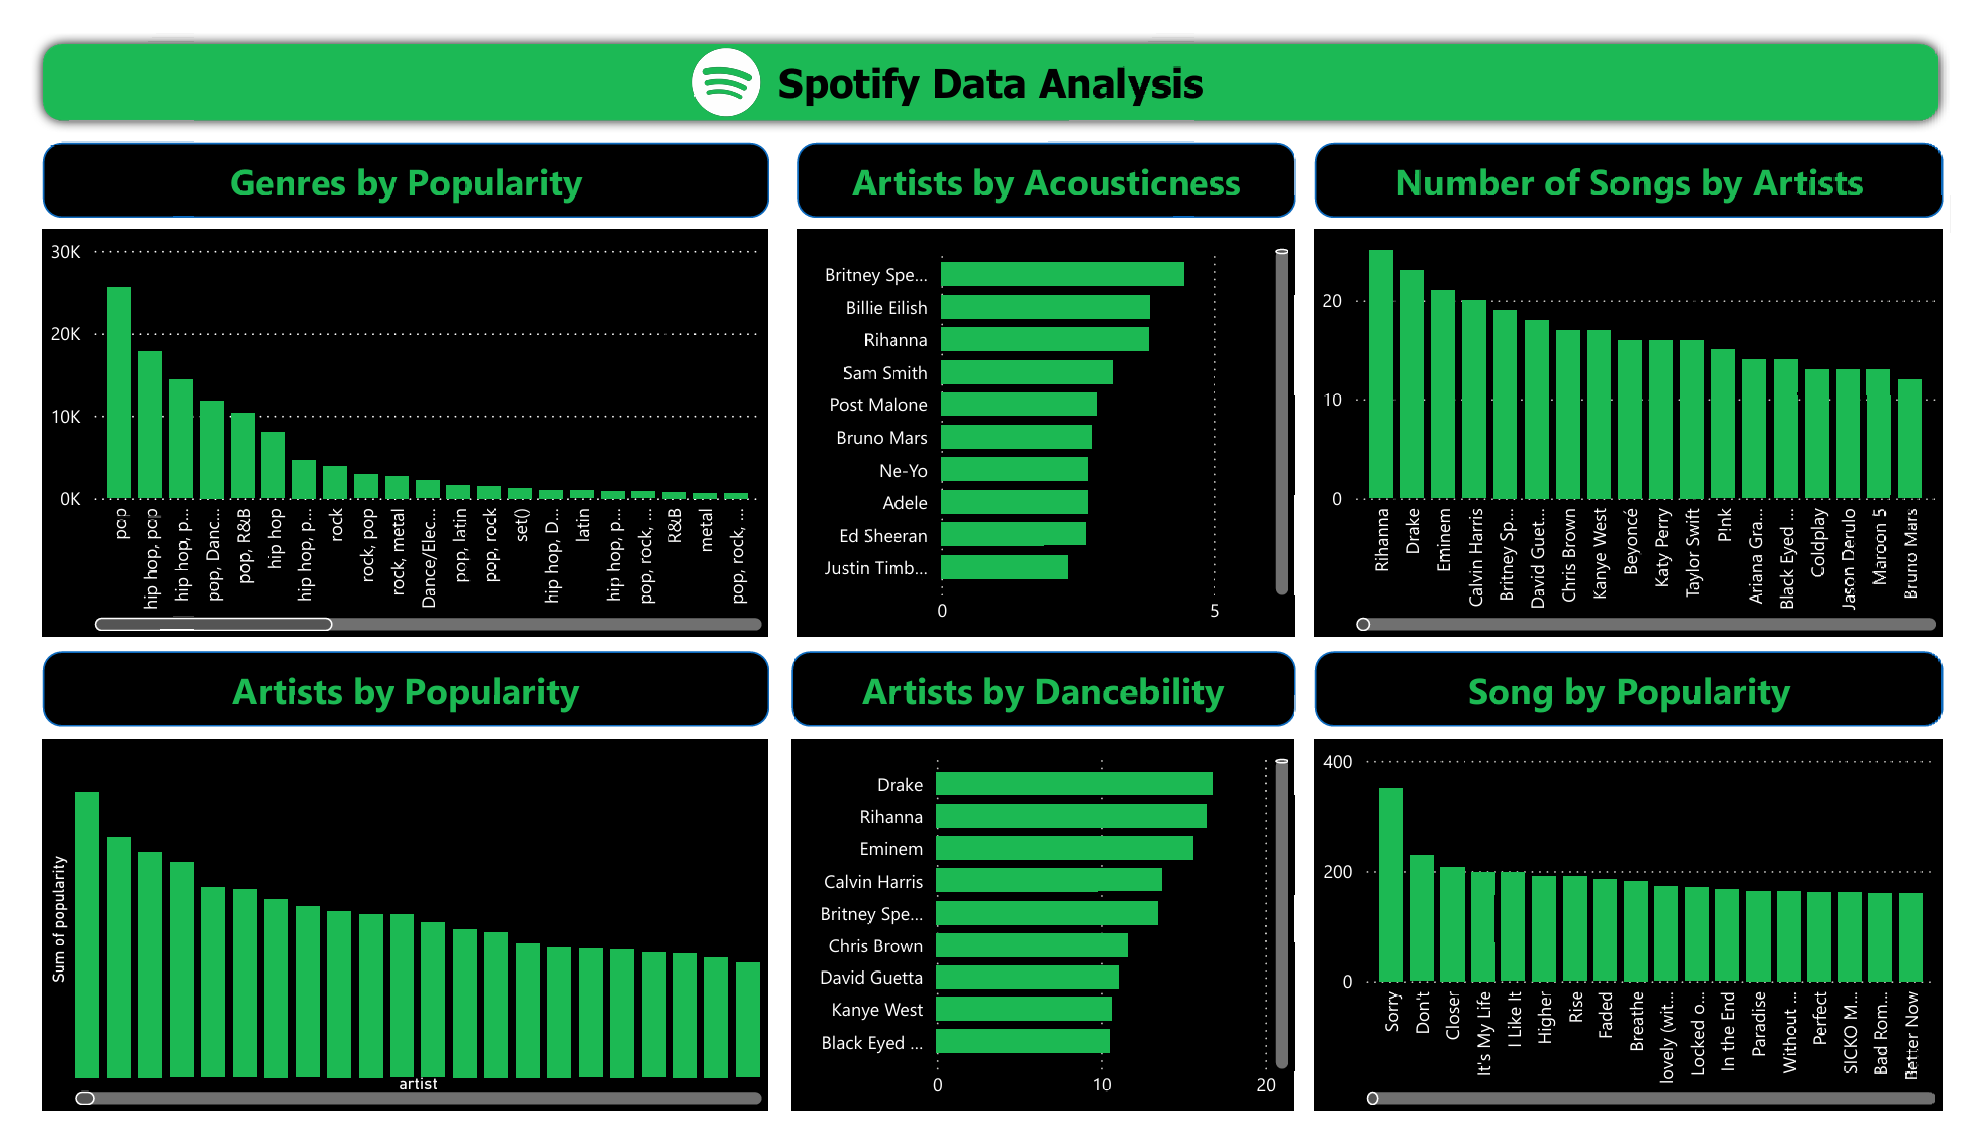

This screenshot's page, from the dashboard's own definition file:
{"tool":"powerbi","page":{"name":"Spotify Data Analysis","canvas":[1280,720],"ordinal":0},"visuals":[{"type":"columnChart","fields":{"Y":["songs_normalize.popularity"],"Category":["songs_normalize.artist"]},"box":[7.9,471.8,484.3,248],"z":0},{"type":"barChart","fields":{"Y":["songs_normalize.danceability"],"Category":["songs_normalize.artist"]},"box":[506.5,471.8,336.4,248],"z":1000},{"type":"columnChart","fields":{"Y":["songs_normalize.popularity"],"Category":["songs_normalize.song"]},"box":[856,471.8,418.8,248],"z":2000},{"type":"columnChart","fields":{"Y":["songs_normalize.popularity"],"Category":["songs_normalize.genre"]},"box":[7.9,131.5,484.3,272.2],"z":3000},{"type":"clusteredBarChart","fields":{"Y":["songs_normalize.acousticness"],"Category":["songs_normalize.artist"]},"box":[511.1,131.5,331.8,272.2],"z":4000},{"type":"columnChart","fields":{"Category":["songs_normalize.artist"],"Y":["songs_normalize.song"]},"box":[856,131.5,418.8,272.2],"z":5000},{"type":"shape","box":[0,0,1280,67.4],"z":6000},{"type":"shape","box":[7.9,73.9,484.3,49.7],"z":7000},{"type":"shape","box":[856,73.9,418.8,49.7],"z":8000},{"type":"shape","box":[511.1,73.9,331.8,49.7],"z":9000},{"type":"shape","box":[7.9,412.9,484.3,49.7],"z":10000},{"type":"shape","box":[506.5,412.9,336.4,49.7],"z":11000},{"type":"shape","box":[856,412.9,418.8,49.7],"z":12000},{"type":"image","box":[435.2,5.2,56.9,56.9],"z":13000}]}

Visuals, with their boxes in screenshot pixels (x1, y1, x2, y2), scaled from the page's 1280x720 canvas onto the 1971x1131 screenshot:
columnChart - songs_normalize.popularity x songs_normalize.artist: (left=12, top=741, right=758, bottom=1130)
barChart - songs_normalize.danceability x songs_normalize.artist: (left=780, top=741, right=1298, bottom=1130)
columnChart - songs_normalize.popularity x songs_normalize.song: (left=1318, top=741, right=1963, bottom=1130)
columnChart - songs_normalize.popularity x songs_normalize.genre: (left=12, top=207, right=758, bottom=634)
clusteredBarChart - songs_normalize.acousticness x songs_normalize.artist: (left=787, top=207, right=1298, bottom=634)
columnChart - songs_normalize.artist x songs_normalize.song: (left=1318, top=207, right=1963, bottom=634)
shape: (left=0, top=0, right=1970, bottom=106)
shape: (left=12, top=116, right=758, bottom=194)
shape: (left=1318, top=116, right=1963, bottom=194)
shape: (left=787, top=116, right=1298, bottom=194)
shape: (left=12, top=649, right=758, bottom=727)
shape: (left=780, top=649, right=1298, bottom=727)
shape: (left=1318, top=649, right=1963, bottom=727)
image: (left=670, top=8, right=758, bottom=98)
